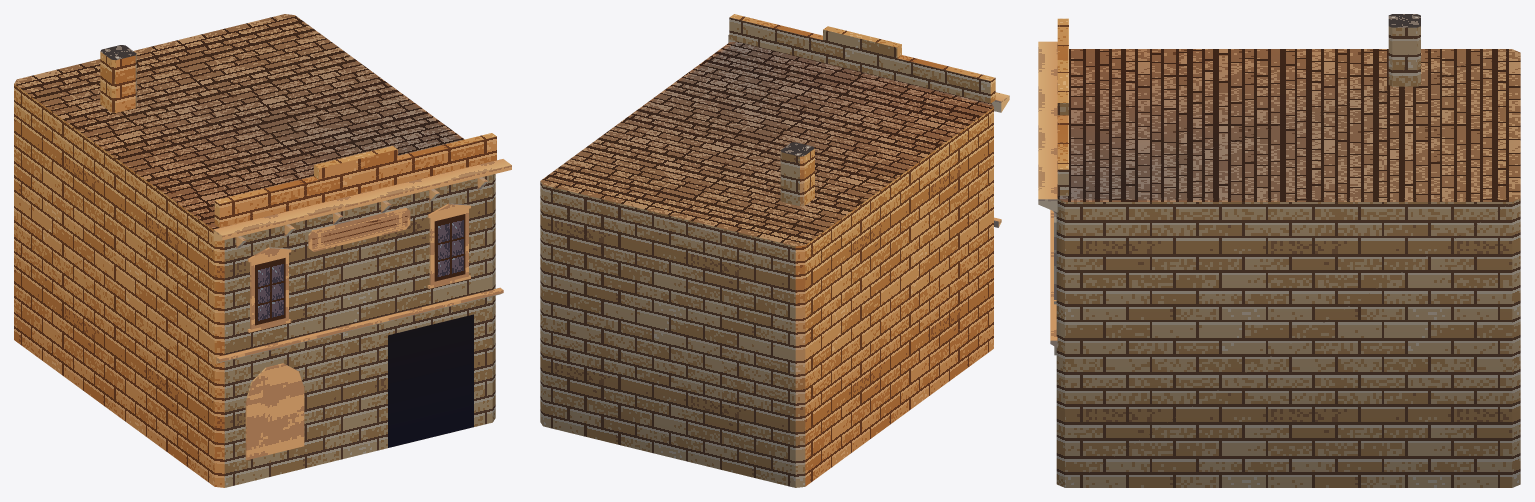
File: wtown.bank__entry.glb
The picture shows the model from 3 angles, left to right: view 1: azimuth 30°, elevation 25°; view 2: azimuth 150°, elevation 25°; view 3: azimuth 270°, elevation 25°; orthographic projection. The views are drawn at different scales.
Visible parts, largest first — view 1: kit_body, kit_trim, kit_card_panes, kit_windows, kit_chimney; view 2: kit_body, kit_trim, kit_chimney; view 3: kit_body, kit_trim, kit_chimney.
Part boxes in pixels (x1,y1,x2,y2): kit_body: (14,14,495,487); kit_trim: (213,133,511,363); kit_card_panes: (255,210,473,447); kit_windows: (245,203,470,459); kit_chimney: (100,45,136,112); kit_body: (540,41,993,487); kit_trim: (728,14,1009,227); kit_chimney: (780,142,814,206); kit_body: (1056,49,1520,487); kit_trim: (1038,18,1068,347); kit_chimney: (1388,14,1420,86).
Bounding box in the file's own units: 8.04 × 8.2 × 10.4.
7 materials, 7 textured.
